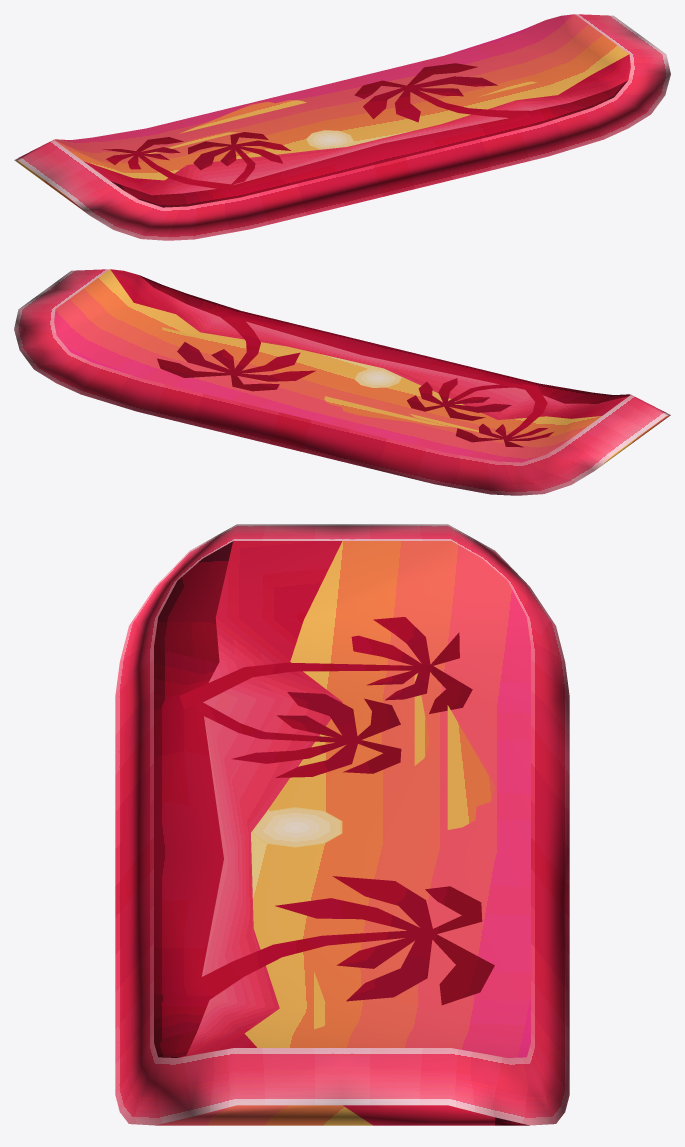
Rendered from Miami.glb.
The picture shows the model from 3 angles, top to bottom: view 1: azimuth 30°, elevation 25°; view 2: azimuth 150°, elevation 25°; view 3: azimuth 270°, elevation 25°; orthographic projection. The views are drawn at different scales.
Visible parts, largest first — view 1: Miami; view 2: Miami; view 3: Miami.
Part boxes in pixels (x1,y1,x2,y2): Miami: [14, 14, 670, 240]; Miami: [14, 269, 670, 495]; Miami: [115, 524, 569, 1125].
Bounding box in the file's own units: 8.35 × 0.8153 × 2.76.
1 material, 1 textured.
